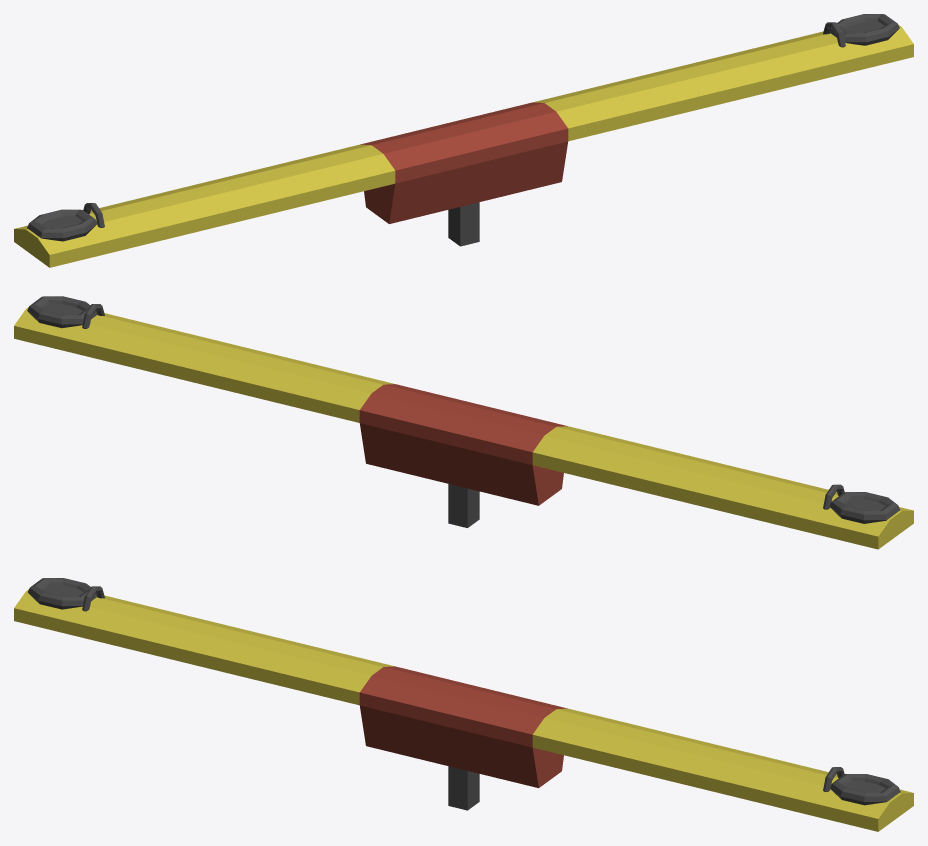
The model's file is SeeSawColour.fbx.
3 views of the same model, one above another, from view 1: azimuth 30°, elevation 25°; view 2: azimuth 150°, elevation 25°; view 3: azimuth 330°, elevation 25° (orthographic).
Visible parts, largest first — view 1: Cube, Torus, Torus.002; view 2: Cube, Torus, Torus.002; view 3: Cube, Torus.002, Torus.
Part boxes in pixels (x1,y1,x2,y2): Cube: (14, 25, 913, 267); Torus: (27, 209, 97, 241); Torus.002: (831, 14, 899, 45); Cube: (14, 307, 913, 549); Torus: (830, 492, 899, 523); Torus.002: (27, 296, 97, 328); Cube: (14, 589, 913, 831); Torus.002: (830, 774, 900, 805); Torus: (28, 578, 96, 609).
Bounding box in the file's own units: 700 × 98.52 × 50.
